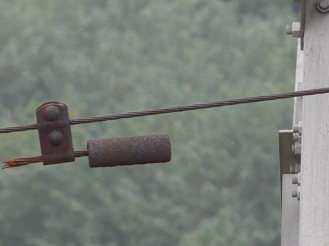damper_defect: (1, 95, 174, 173)
